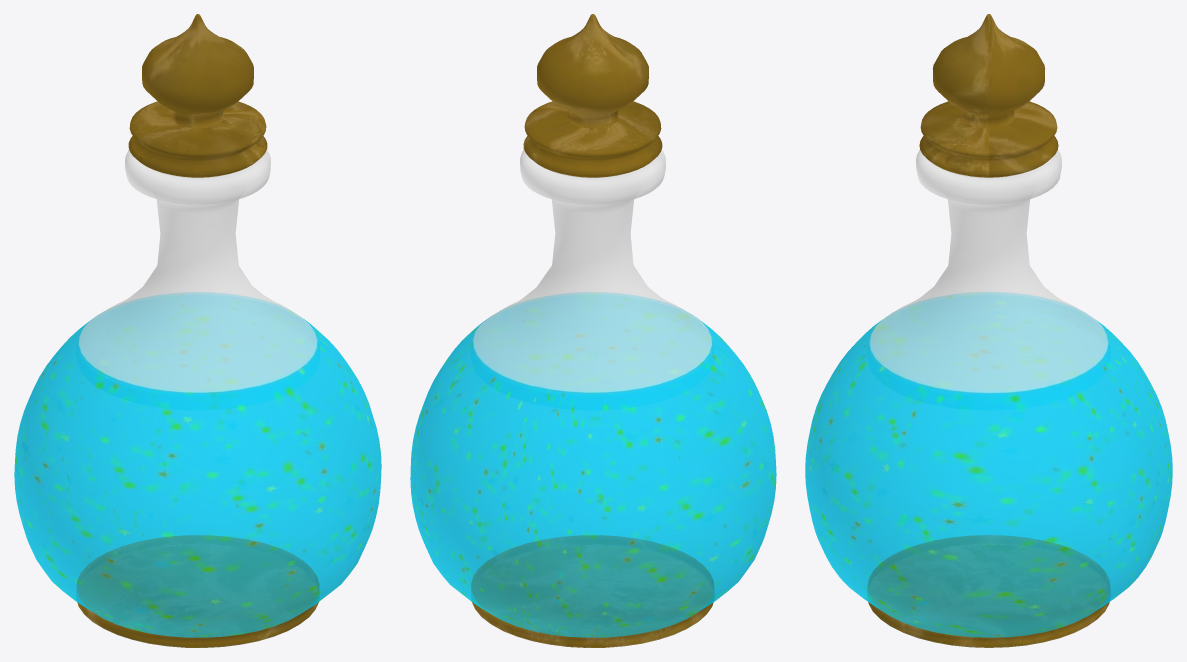
Rendered from potion_for_media__motion.glb.
3 renders of one model, left to right at view 1: azimuth 30°, elevation 25°; view 2: azimuth 150°, elevation 25°; view 3: azimuth 270°, elevation 25°, orthographic.
Parts seen in each view (by area): view 1: defaultMaterial; view 2: defaultMaterial; view 3: defaultMaterial.
Boxes of the visible parts, x1,y1,x2,y2 form: defaultMaterial: (14, 14, 381, 647); defaultMaterial: (410, 14, 776, 647); defaultMaterial: (805, 14, 1172, 647).
Size of the model in its own units: 2.28 by 3.99 by 2.28.
1 material, 1 textured.
